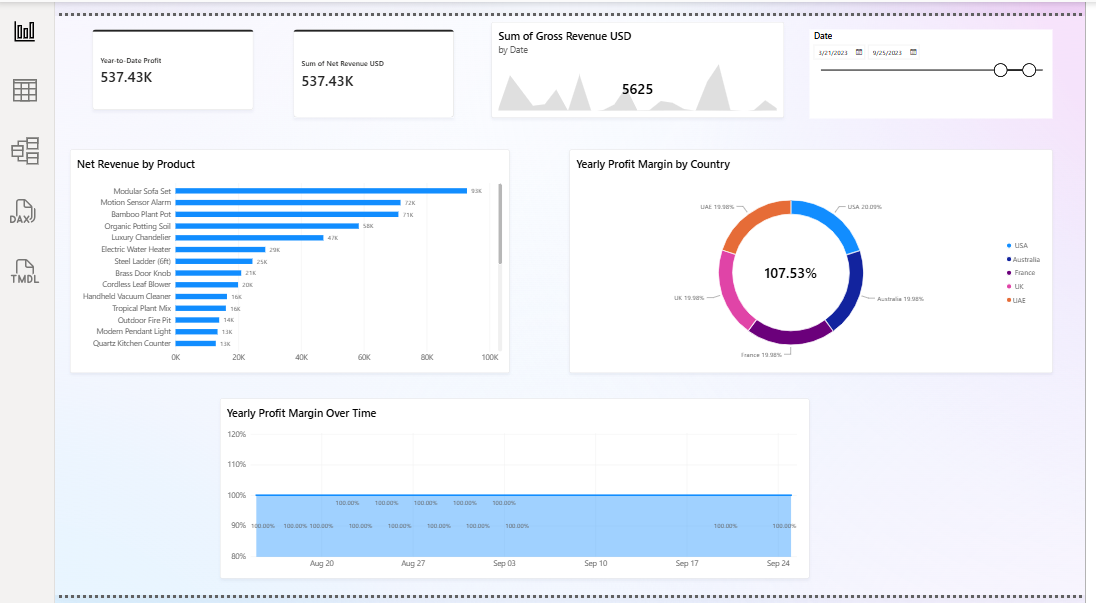

The dashboard page shown, as its layout file describes it:
{"tool":"powerbi","page":{"name":"Profit Overview ","canvas":[1920,1080],"ordinal":1},"visuals":[{"type":"clusteredBarChart","title":"Net Revenue by Product ","fields":{"Category":["Sales in USD.Product Name"],"Y":["Sum(Sales in USD.Net Revenue USD)"]},"box":[28,248.9,819.3,416.6],"z":0},{"type":"donutChart","title":"Yearly Profit Margin by Country","fields":{"Category":["Sales in USD.Country Name"],"Y":["Sales in USD.Yearly Profit Margin"]},"box":[959.1,248.9,900.4,416.6],"z":1},{"type":"hundredPercentStackedAreaChart","title":"Yearly Profit Margin Over Time ","fields":{"Category":["CalendarTable.Date"],"Y":["Sales in USD.Yearly Profit Margin"]},"box":[307.6,713,1098.9,335.5],"z":2},{"type":"cardVisual","fields":{"Data":["Sales in USD.Year-to-Date Profit"]},"box":[69.9,25.2,300,150],"z":3},{"type":"cardVisual","fields":{"Data":["Sum(Sales in USD.Net Revenue USD)"]},"box":[444.6,25.2,299.2,165],"z":4},{"type":"kpi","fields":{"Indicator":["Sum(Sales in USD.Gross Revenue USD)"],"TrendLine":["CalendarTable.Date"]},"box":[813.7,11.2,545.3,179],"z":5},{"type":"slicer","fields":{"Values":["CalendarTable.Date"]},"box":[1406.5,25.2,453,165],"z":6}]}

Visuals, with their boxes on the page's 1920x1080 design canvas (x1, y1, x2, y2). These are canvas units, not pixel positions in the 1096x603 screenshot, which may show the page scaled, cropped or inside an application window:
"Net Revenue by Product " clusteredBarChart: 28 249 847 666
"Yearly Profit Margin by Country" donutChart: 959 249 1860 666
"Yearly Profit Margin Over Time " hundredPercentStackedAreaChart: 308 713 1406 1048
cardVisual - Sales in USD.Year-to-Date Profit: 70 25 370 175
cardVisual - Sum(Sales in USD.Net Revenue USD): 445 25 744 190
kpi - Sum(Sales in USD.Gross Revenue USD) x CalendarTable.Date: 814 11 1359 190
slicer - CalendarTable.Date: 1406 25 1860 190
